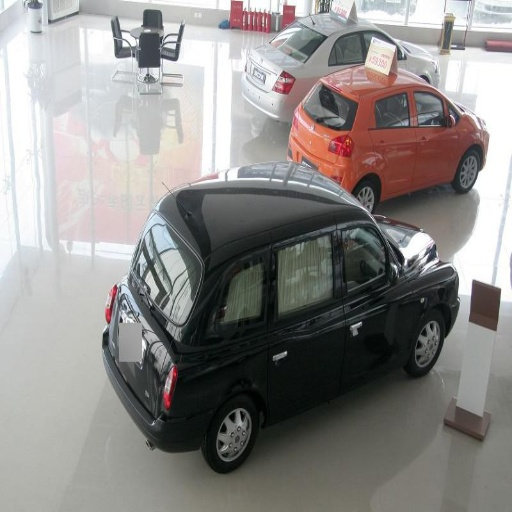back_glass: (173, 192, 302, 290), (274, 27, 327, 60)
front_right_door: (414, 84, 457, 175)
